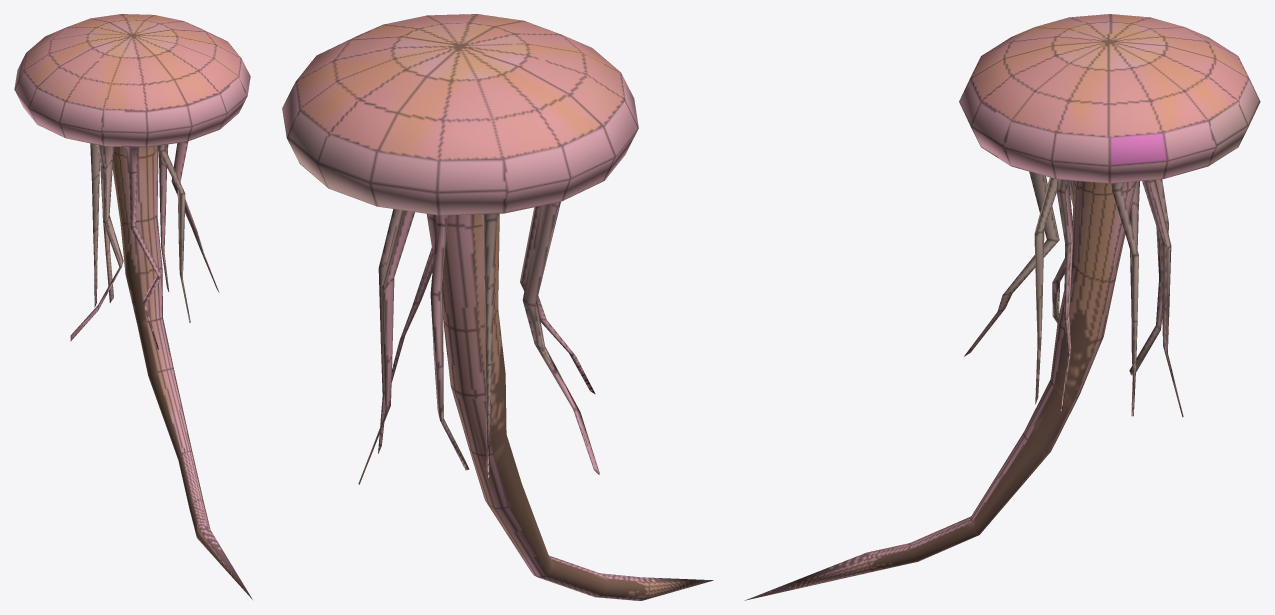
Rendered from meduza.obj.
The picture shows the model from 3 angles, left to right: view 1: azimuth 30°, elevation 25°; view 2: azimuth 150°, elevation 25°; view 3: azimuth 270°, elevation 25°; orthographic projection. The views are drawn at different scales.
Visible parts, largest first — view 1: sphere1; view 2: sphere1; view 3: sphere1.
Boxes of the visible parts, x1=… form: sphere1: x1=14, y1=14, x2=252, y2=599; sphere1: x1=282, y1=14, x2=713, y2=600; sphere1: x1=744, y1=14, x2=1260, y2=600.
Bounding box in the file's own units: 1.6 × 3.37 × 2.75.
